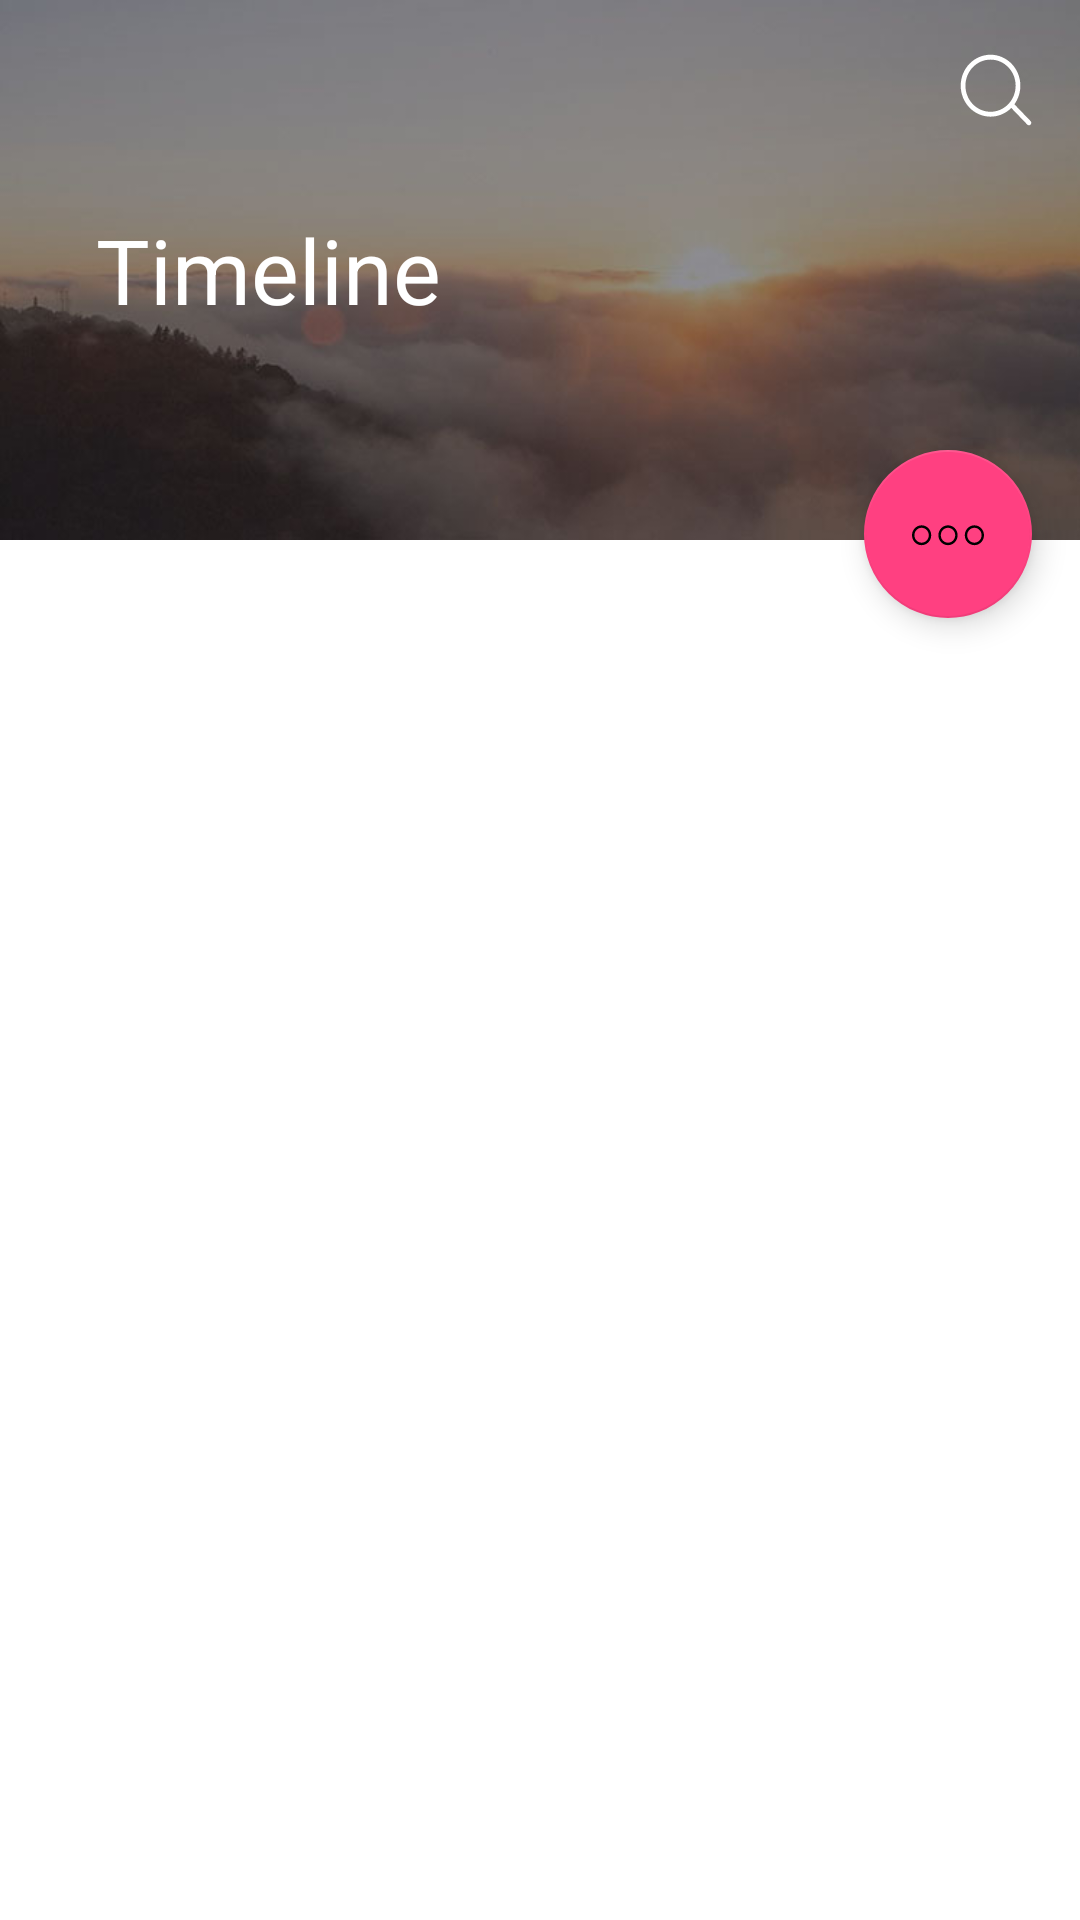

Icon click points for this 1080w x 1920h phone screenshot, format (x=x, y=y):
more: (x=948, y=534)
search: (x=996, y=89)
